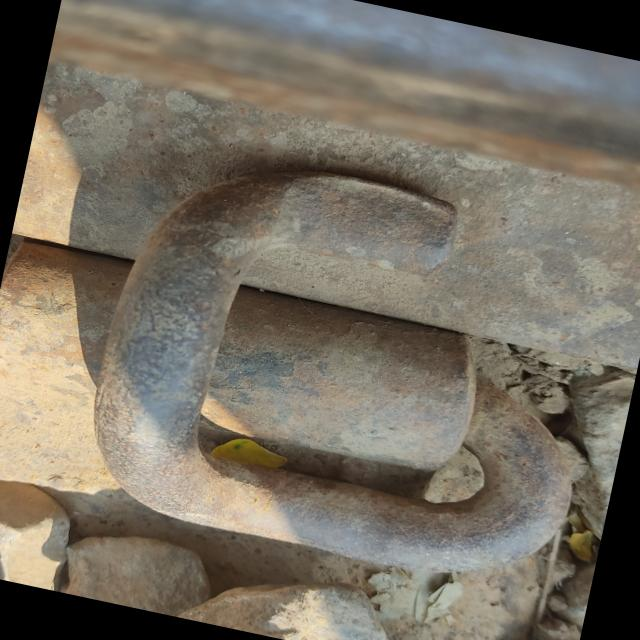track_bolt: (58, 121, 635, 612)
